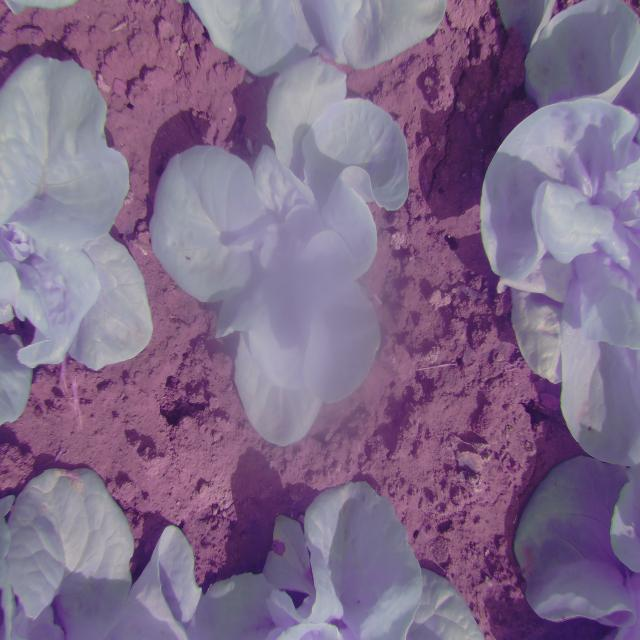vege: (149, 60, 408, 448)
